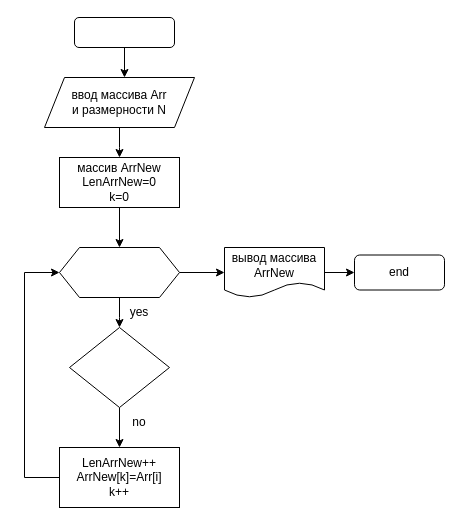
Image size: 462x525. Some labels were removed from this diagram. Here are the shapes that lost their labels. From the top down, the centre of each, then its label:
At (124,32): "start".
At (119,272): "i=0; i<N; i=i+1".
At (119,367): "длина Arr[i]>3".
